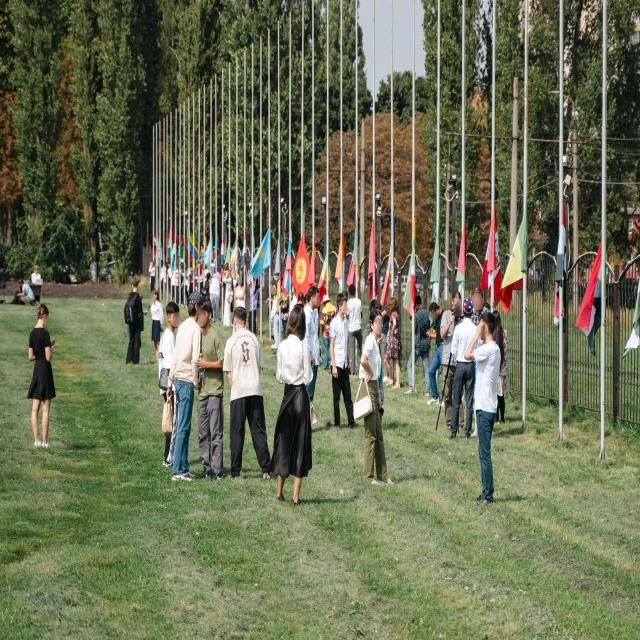Person: (274, 304, 316, 514), (167, 285, 206, 488), (226, 306, 266, 482), (472, 311, 500, 508), (23, 301, 58, 457), (152, 301, 183, 477), (364, 308, 392, 489), (199, 296, 225, 488), (300, 281, 324, 435), (328, 293, 354, 434), (454, 300, 474, 444), (425, 301, 452, 403), (410, 293, 432, 405), (345, 282, 367, 386), (383, 296, 405, 394), (126, 276, 148, 363), (150, 287, 164, 357), (269, 277, 282, 351), (206, 262, 222, 322), (222, 268, 236, 329), (233, 272, 249, 317), (17, 280, 37, 309), (368, 297, 388, 319), (147, 260, 159, 296), (474, 287, 486, 318), (177, 259, 189, 285), (166, 259, 178, 285)
